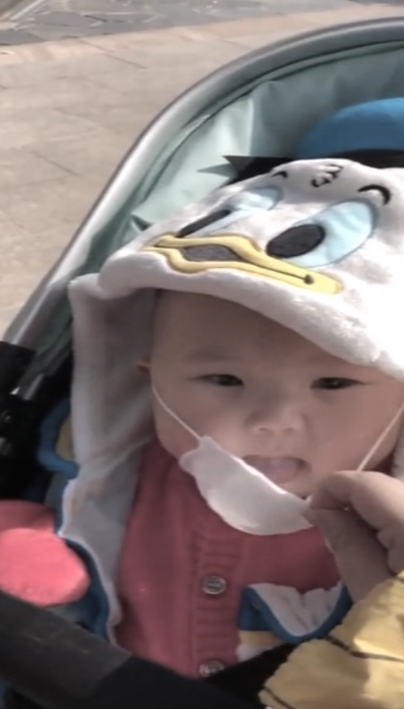mask_weared_incorrect: (125, 272, 404, 539)
